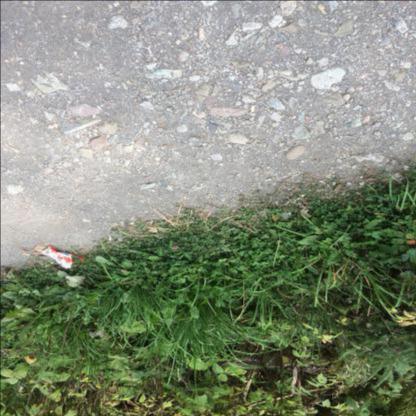Cigarette: (250, 105, 255, 112)
Plastic bag - wrapper: (41, 246, 84, 268)
